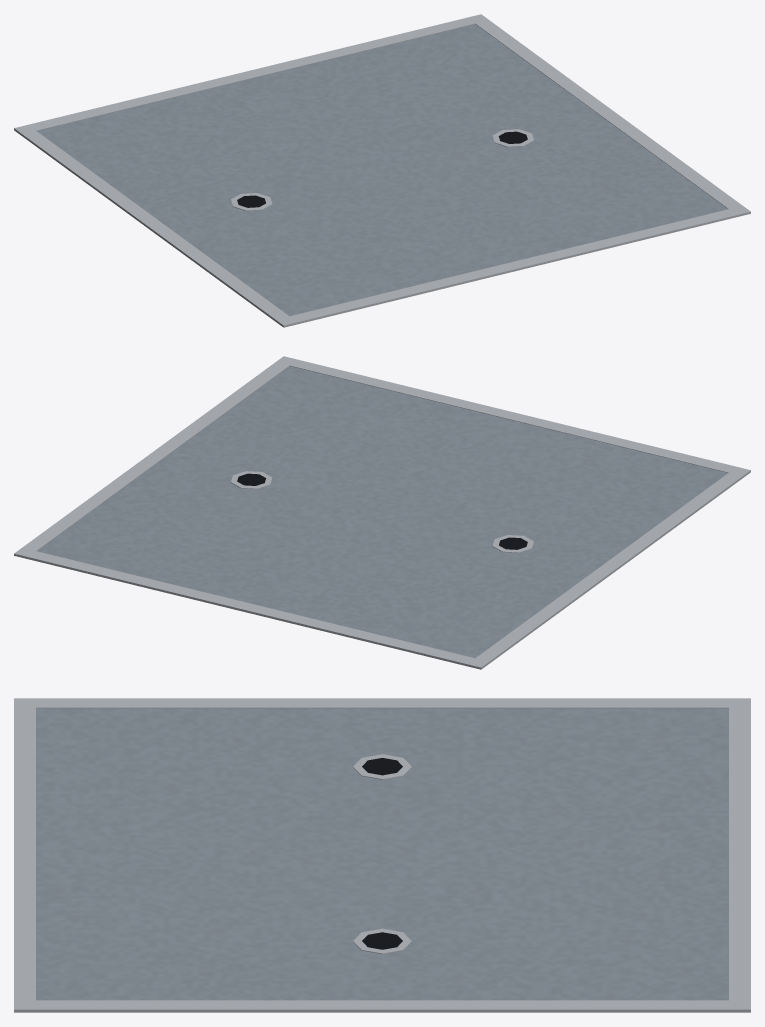
Rendered from Floor_AccessPanel_1m.glb.
3 renders of one model, top to bottom at view 1: azimuth 30°, elevation 25°; view 2: azimuth 150°, elevation 25°; view 3: azimuth 270°, elevation 25°, orthographic. The views are drawn at different scales.
Parts seen in each view (by area): view 1: Floor_AccessPanel_1m; view 2: Floor_AccessPanel_1m; view 3: Floor_AccessPanel_1m.
Part boxes in pixels (<box>): Floor_AccessPanel_1m: <box>14,14,750,327</box>; Floor_AccessPanel_1m: <box>14,356,750,669</box>; Floor_AccessPanel_1m: <box>14,698,750,1012</box>.
Size of what is drawn, in the model's own units: 1 by 0.0048 by 1.
3 materials, 1 textured.
